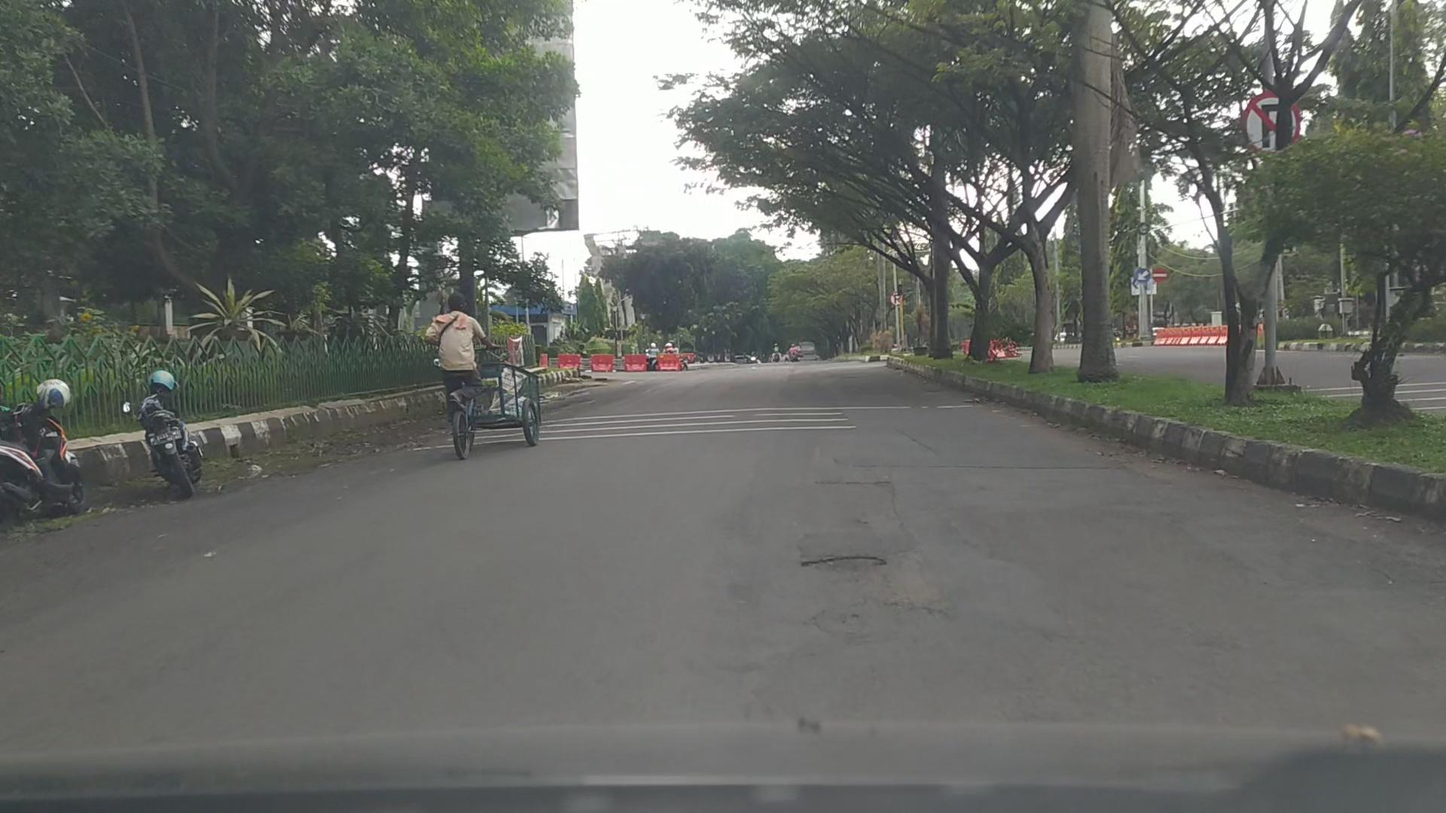pothole: (797, 553, 892, 574)
